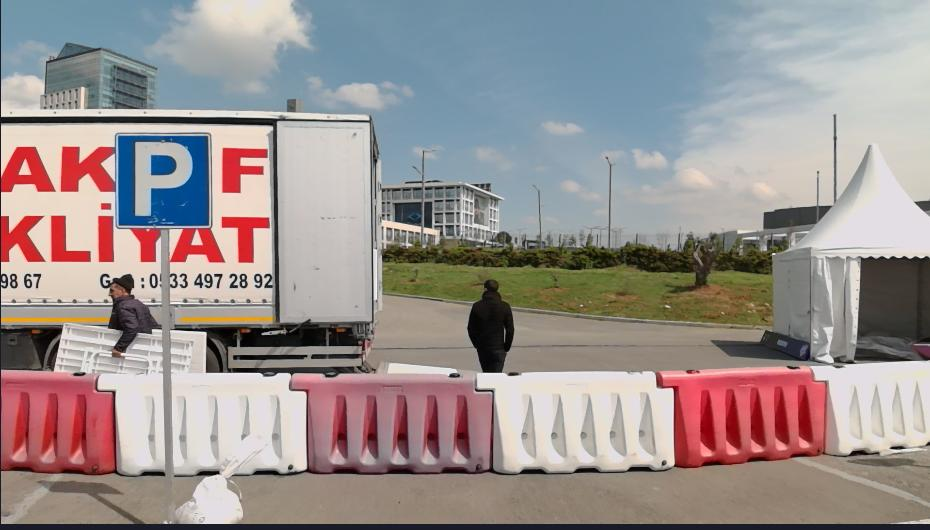nesne: (0, 356, 928, 475), (0, 108, 383, 369), (290, 371, 494, 472), (475, 370, 675, 473), (99, 375, 307, 474), (659, 366, 826, 469), (51, 276, 206, 372), (0, 369, 116, 472), (811, 360, 929, 456), (161, 429, 271, 530), (115, 134, 210, 228), (466, 281, 518, 371)
